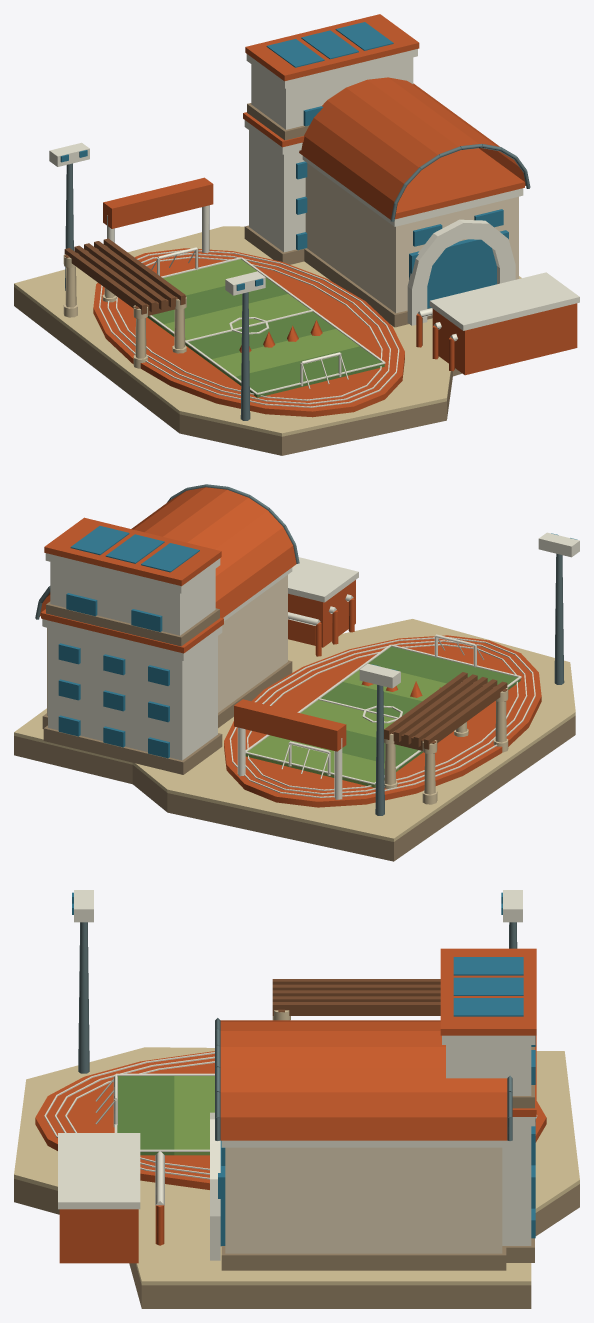
File: training-center-lv4.glb
3 renders of one model, top to bottom at view 1: azimuth 30°, elevation 25°; view 2: azimuth 150°, elevation 25°; view 3: azimuth 270°, elevation 25°, orthographic. The views are drawn at different scales.
Parts seen in each view (by area): view 1: running_track_orange, gym_barrel_roof_orange, foundation_sand, training_hall_cream, foundation_stoneDark, pitch_grass, pitch_grassLight, equipment_platform_orange, performance_upper_floor_white, performance_block_white, training_hall_roof_orange, equipment_platform_white (+20 smaller); view 2: foundation_sand, running_track_orange, performance_block_white, foundation_stoneDark, gym_barrel_roof_orange, performance_upper_floor_white, training_hall_cream, pitch_grassLight, pitch_grass, coaching_shelter_wood, performance_upper_floor_roof_orange, running_lanes_white (+18 smaller); view 3: gym_barrel_roof_orange, training_hall_cream, foundation_sand, foundation_stoneDark, running_track_orange, equipment_platform_white, coaching_shelter_wood, training_hall_stoneDark, performance_upper_floor_roof_orange, equipment_platform_orange, performance_upper_floor_white, solar_panels_glass (+13 smaller).
Boxes of the visible parts, x1=… form: running_track_orange: x1=93, y1=248, x2=404, y2=417; gym_barrel_roof_orange: x1=299, y1=77, x2=525, y2=219; foundation_sand: x1=14, y1=226, x2=521, y2=436; training_hall_cream: x1=305, y1=163, x2=518, y2=313; foundation_stoneDark: x1=14, y1=287, x2=461, y2=455; pitch_grass: x1=147, y1=277, x2=384, y2=397; pitch_grassLight: x1=161, y1=259, x2=359, y2=379; equipment_platform_orange: x1=432, y1=303, x2=577, y2=375; performance_upper_floor_white: x1=246, y1=49, x2=417, y2=129; performance_block_white: x1=244, y1=120, x2=305, y2=252; training_hall_roof_orange: x1=395, y1=148, x2=524, y2=219; equipment_platform_white: x1=429, y1=272, x2=579, y2=330; foundation_sand: x1=14, y1=619, x2=575, y2=841; running_track_orange: x1=224, y1=635, x2=541, y2=807; performance_block_white: x1=43, y1=619, x2=222, y2=760; foundation_stoneDark: x1=14, y1=715, x2=575, y2=861; gym_barrel_roof_orange: x1=39, y1=487, x2=296, y2=618; performance_upper_floor_white: x1=45, y1=553, x2=220, y2=635; training_hall_cream: x1=47, y1=575, x2=287, y2=715; pitch_grassLight: x1=245, y1=670, x2=446, y2=787; pitch_grass: x1=270, y1=646, x2=520, y2=769; coaching_shelter_wood: x1=384, y1=672, x2=507, y2=753; performance_upper_floor_roof_orange: x1=44, y1=517, x2=221, y2=586; running_lanes_white: x1=229, y1=637, x2=535, y2=797; gym_barrel_roof_orange: x1=220, y1=1020, x2=507, y2=1140; training_hall_cream: x1=225, y1=1147, x2=502, y2=1253; foundation_sand: x1=14, y1=1047, x2=579, y2=1285; foundation_stoneDark: x1=14, y1=1179, x2=579, y2=1308; running_track_orange: x1=35, y1=1051, x2=546, y2=1189; equipment_platform_white: x1=58, y1=1133, x2=140, y2=1209; coaching_shelter_wood: x1=272, y1=979, x2=440, y2=1015; training_hall_stoneDark: x1=221, y1=1246, x2=506, y2=1270; performance_upper_floor_roof_orange: x1=440, y1=948, x2=536, y2=1035; equipment_platform_orange: x1=59, y1=1209, x2=138, y2=1263; performance_upper_floor_white: x1=442, y1=1035, x2=535, y2=1095; solar_panels_glass: x1=453, y1=957, x2=523, y2=1016.
Size of the model in its own units: 0.9785 by 0.5113 by 1.
